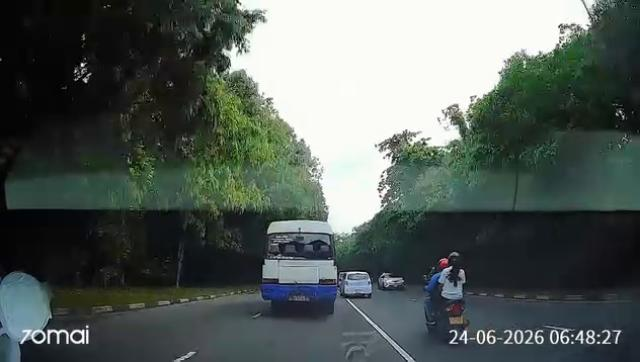illegal overtaking: (417, 257, 486, 346)
number plate: (444, 315, 468, 327)
